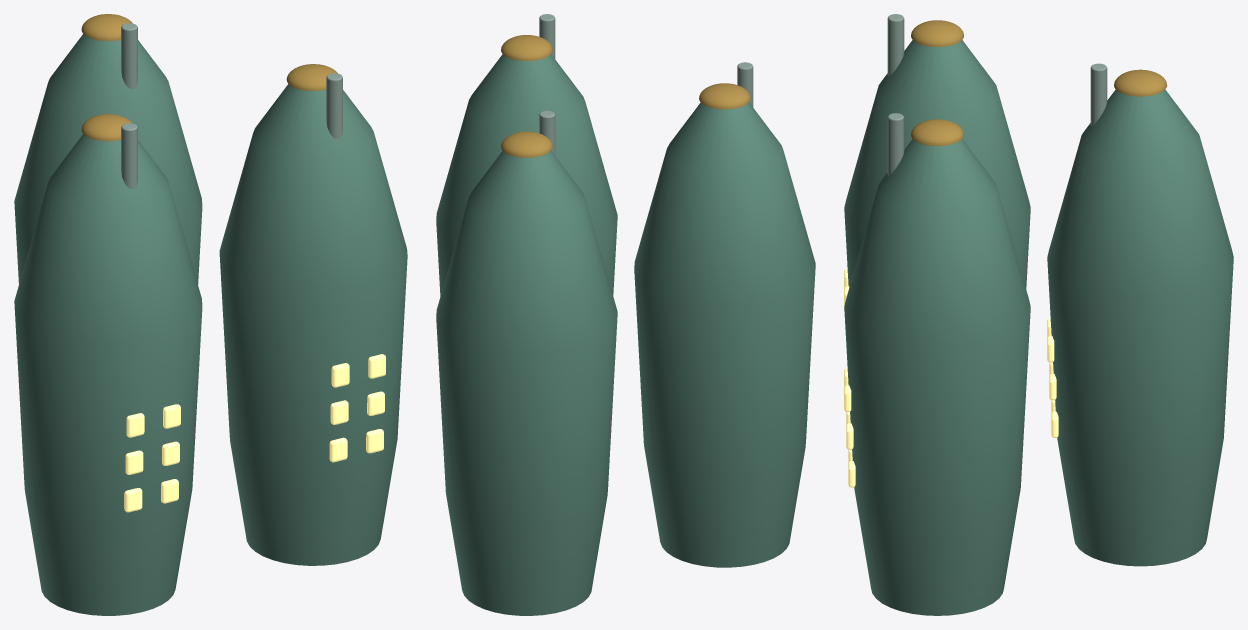
3 renders of one model, left to right at view 1: azimuth 30°, elevation 25°; view 2: azimuth 150°, elevation 25°; view 3: azimuth 270°, elevation 25°, orthographic. The views are drawn at different scales.
Visible parts, largest first — view 1: Bulb shaped chamber.002, Bulb shaped chamber.001, Bulb shaped chamber, Tank service conduit.001, Tank service conduit.002, Tank service conduit, Tower crown.002, Tower crown.001, Tower crown; view 2: Bulb shaped chamber, Bulb shaped chamber.001, Bulb shaped chamber.002, Tower crown, Tower crown.001, Tower crown.002; view 3: Bulb shaped chamber, Bulb shaped chamber.002, Bulb shaped chamber.001, Tower crown, Tower crown.002, Tower crown.001, Tank service conduit.002, Tank service conduit, Tank service conduit.001.
Boxes of the visible parts, bbox=[...] form: Bulb shaped chamber.002: bbox=[219, 84, 407, 565]; Bulb shaped chamber.001: bbox=[14, 134, 202, 615]; Bulb shaped chamber: bbox=[14, 34, 202, 284]; Tank service conduit.001: bbox=[121, 123, 137, 189]; Tank service conduit.002: bbox=[326, 73, 342, 139]; Tank service conduit: bbox=[121, 23, 137, 88]; Tower crown.002: bbox=[286, 64, 337, 91]; Tower crown.001: bbox=[81, 114, 132, 141]; Tower crown: bbox=[81, 14, 132, 40]; Bulb shaped chamber: bbox=[436, 151, 617, 615]; Bulb shaped chamber.001: bbox=[634, 102, 815, 567]; Bulb shaped chamber.002: bbox=[436, 54, 617, 296]; Tower crown: bbox=[501, 131, 552, 157]; Tower crown.001: bbox=[699, 83, 750, 109]; Tower crown.002: bbox=[501, 35, 552, 60]; Bulb shaped chamber: bbox=[1047, 89, 1233, 566]; Bulb shaped chamber.002: bbox=[844, 139, 1030, 615]; Bulb shaped chamber.001: bbox=[844, 40, 1030, 288]; Tower crown: bbox=[1114, 69, 1167, 96]; Tower crown.002: bbox=[911, 119, 963, 145]; Tower crown.001: bbox=[911, 20, 963, 46]; Tank service conduit.002: bbox=[887, 113, 904, 175]; Tank service conduit: bbox=[1090, 63, 1107, 126]; Tank service conduit.001: bbox=[887, 14, 904, 76].
Bounding box in the file's own units: 2.02 × 2.5 × 1.87.
